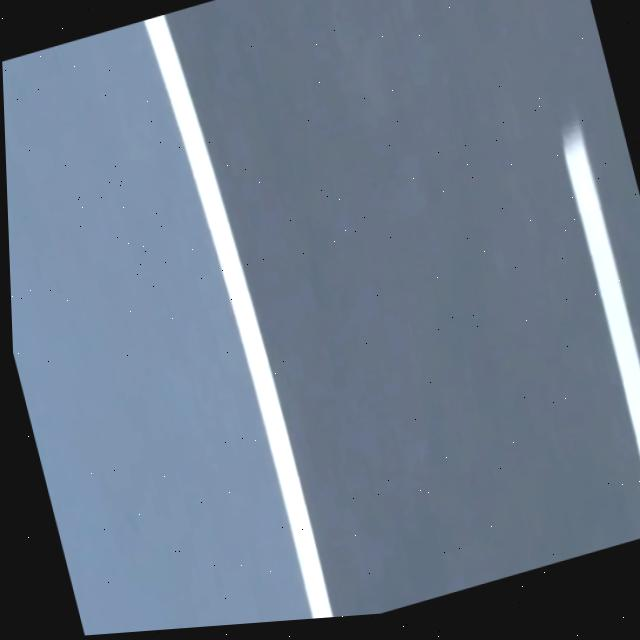center: (563, 122, 640, 463)
left: (143, 14, 332, 619)
